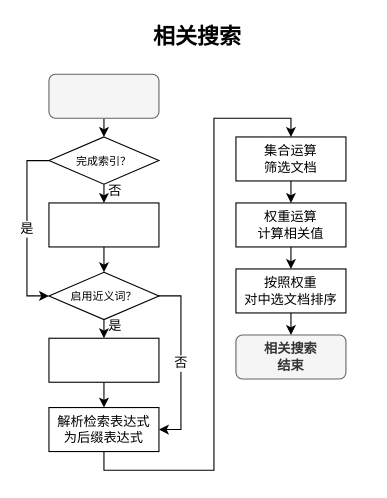
Image size: 387x498. Some labels were removed from this diagram. Here are the shapes that lost their labels. From the top down, the centre of each, then its label:
the point at 103,95: 相关搜索 开始
the point at 103,224: 载入全部文件 并进行索引
the point at 103,359: 表达式 近义词拓展
